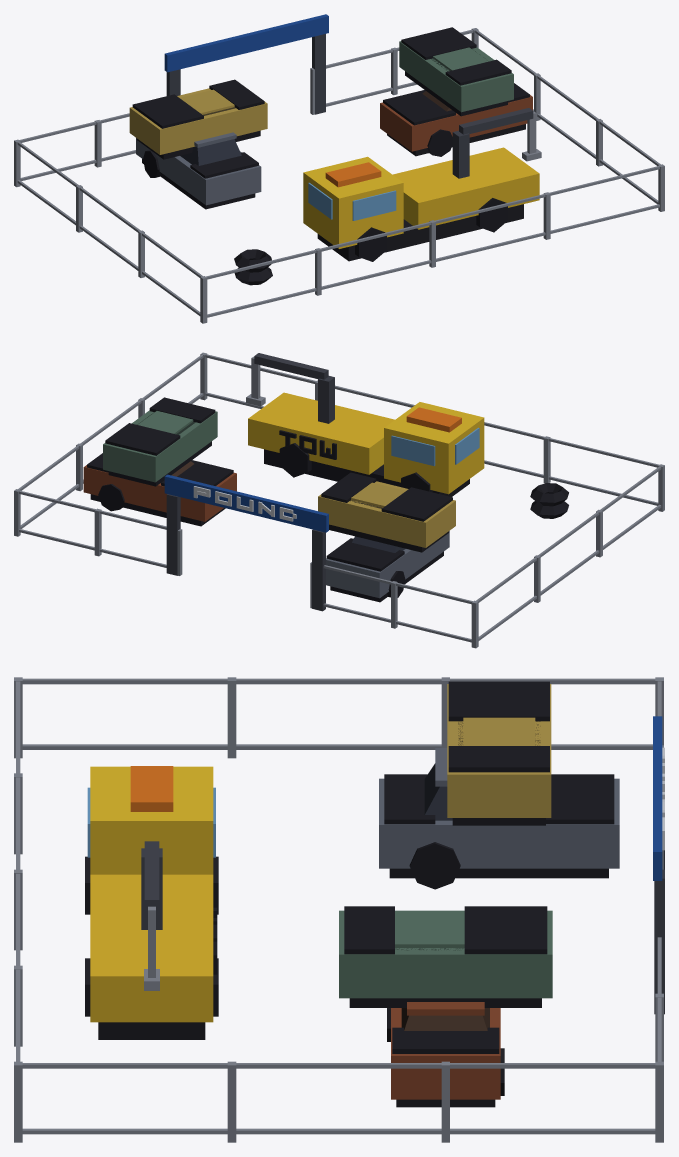
The model's file is Decor_PoliceStation_Impound.fbx.
3 renders of one model, top to bottom at view 1: azimuth 30°, elevation 25°; view 2: azimuth 150°, elevation 25°; view 3: azimuth 270°, elevation 25°, orthographic. The views are drawn at different scales.
Visible parts, largest first — view 1: Impound_Body; view 2: Impound_Body; view 3: Impound_Body.
Boxes of the visible parts, box(x1,y1,x2,y2) form: Impound_Body: box(14, 14, 664, 323); Impound_Body: box(14, 352, 664, 648); Impound_Body: box(14, 677, 664, 1142).
Bounding box in the file's own units: 34.4 × 6.8 × 24.4.
